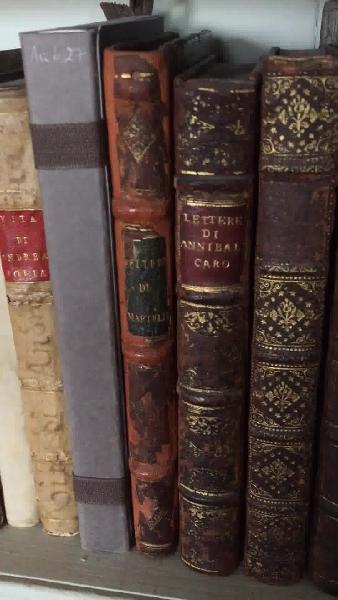Aa6-27: (11, 26, 133, 551)
Aa6-28: (98, 41, 180, 559)
Aa6-29: (165, 75, 252, 579)
Aa6-30: (240, 42, 338, 578)
